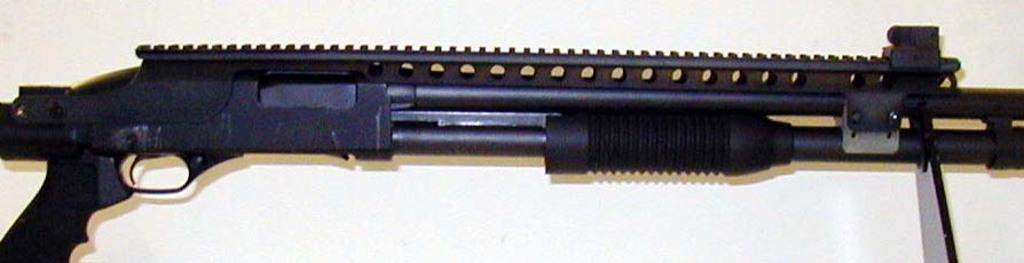Shotgun: (0, 21, 1023, 261)
